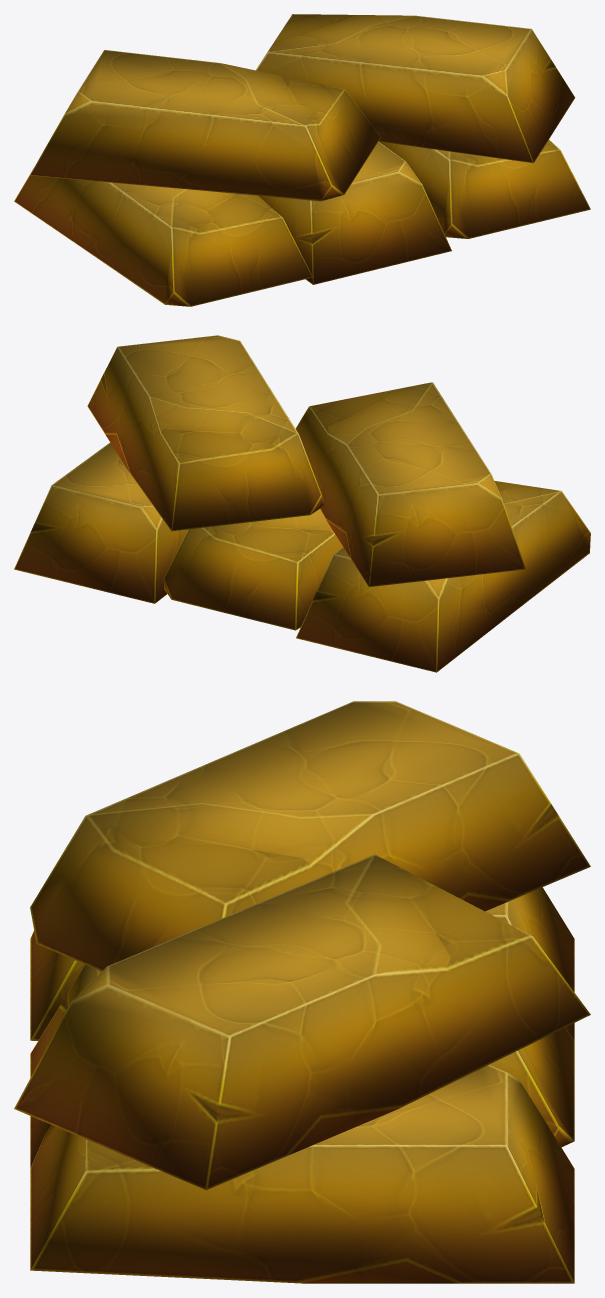
Rendered from Gold-09.fbx.
3 renders of one model, top to bottom at view 1: azimuth 30°, elevation 25°; view 2: azimuth 150°, elevation 25°; view 3: azimuth 270°, elevation 25°, orthographic. The views are drawn at different scales.
Visible parts, largest first — view 1: Gold-09; view 2: Gold-09; view 3: Gold-09.
Boxes of the visible parts, bbox=[...] form: Gold-09: bbox=[14, 14, 590, 306]; Gold-09: bbox=[14, 335, 590, 672]; Gold-09: bbox=[14, 701, 590, 1283].
Bounding box in the file's own units: 0.2641 × 0.075 × 0.1591.
1 material, 1 textured.
